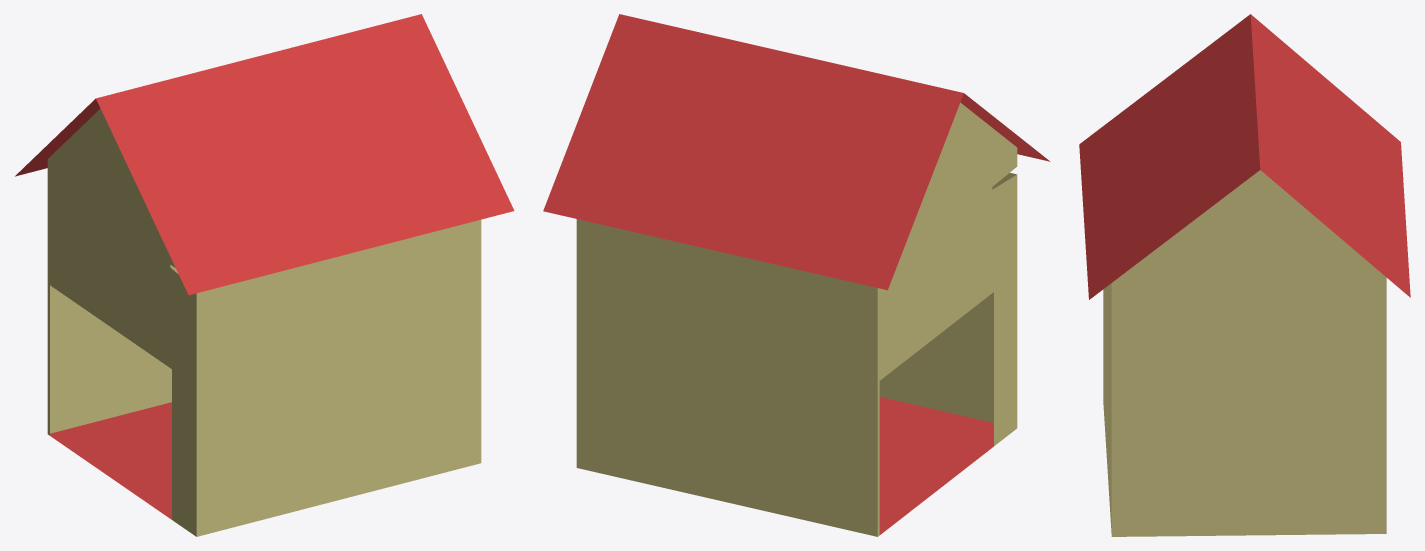
The picture shows the model from 3 angles, left to right: view 1: azimuth 30°, elevation 25°; view 2: azimuth 150°, elevation 25°; view 3: azimuth 270°, elevation 25°; orthographic projection. The views are drawn at different scales.
Bounding box in the file's own units: 12.12 × 10.64 × 13.3.
